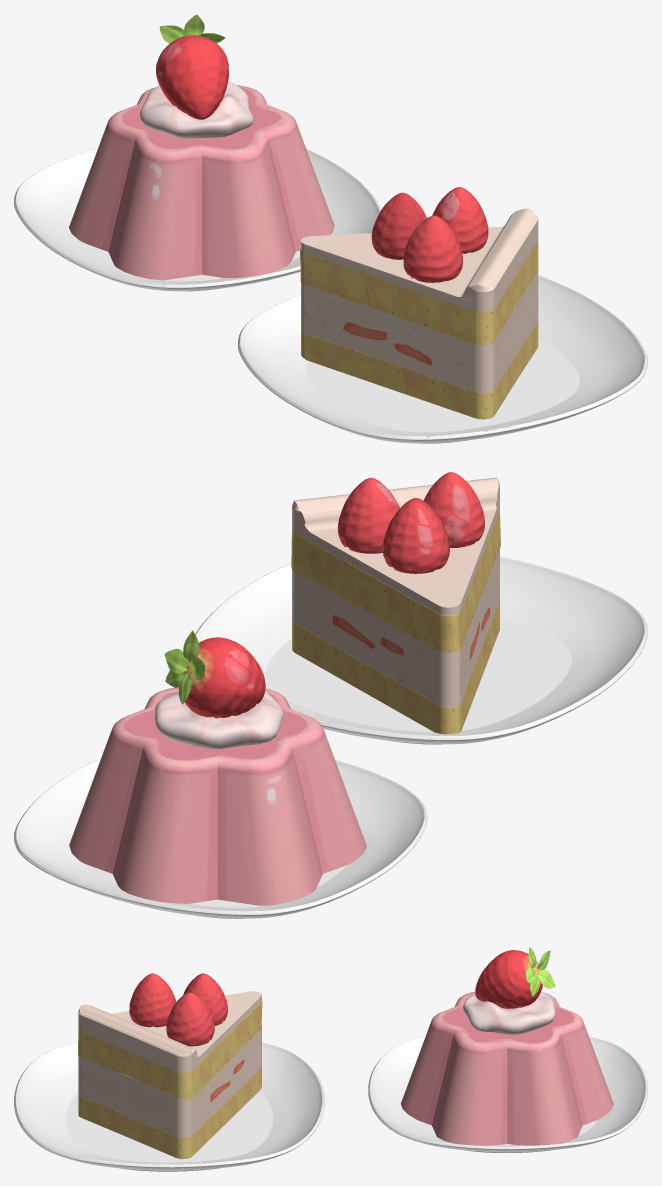
File: desserts-transformed.glb
3 renders of one model, top to bottom at view 1: azimuth 30°, elevation 25°; view 2: azimuth 150°, elevation 25°; view 3: azimuth 270°, elevation 25°, orthographic. The views are drawn at different scales.
Parts seen in each view (by area): view 1: Object_12, Object_32, Object_6, Object_9, Object_4, Object_30, Object_38, Object_17, Object_23, Object_19, Object_28; view 2: Object_12, Object_32, Object_6, Object_9, Object_4, Object_30, Object_38, Object_23, Object_19, Object_17, Object_28; view 3: Object_12, Object_32, Object_6, Object_9, Object_4, Object_30, Object_38, Object_19, Object_17, Object_23, Object_28.
Boxes of the visible parts, x1=… form: Object_12: x1=14, y1=149, x2=647, y2=443; Object_32: x1=69, y1=85, x2=334, y2=280; Object_6: x1=300, y1=239, x2=538, y2=419; Object_9: x1=301, y1=271, x2=538, y2=393; Object_4: x1=301, y1=208, x2=538, y2=312; Object_30: x1=156, y1=35, x2=228, y2=119; Object_38: x1=140, y1=81, x2=253, y2=138; Object_17: x1=403, y1=215, x2=462, y2=282; Object_23: x1=371, y1=192, x2=426, y2=259; Object_19: x1=432, y1=187, x2=488, y2=253; Object_28: x1=159, y1=14, x2=225, y2=43; Object_12: x1=14, y1=556, x2=647, y2=918; Object_32: x1=69, y1=687, x2=366, y2=905; Object_6: x1=291, y1=510, x2=500, y2=734; Object_9: x1=292, y1=549, x2=499, y2=707; Object_4: x1=292, y1=477, x2=499, y2=615; Object_30: x1=178, y1=637, x2=265, y2=718; Object_38: x1=155, y1=691, x2=283, y2=749; Object_23: x1=382, y1=498, x2=449, y2=573; Object_19: x1=337, y1=477, x2=399, y2=553; Object_17: x1=423, y1=472, x2=484, y2=547; Object_28: x1=164, y1=630, x2=205, y2=704; Object_12: x1=14, y1=1036, x2=647, y2=1171; Object_32: x1=401, y1=992, x2=613, y2=1147; Object_6: x1=78, y1=1001, x2=262, y2=1159; Object_9: x1=78, y1=1028, x2=261, y2=1137; Object_4: x1=78, y1=991, x2=261, y2=1072; Object_30: x1=475, y1=950, x2=542, y2=1008; Object_38: x1=463, y1=992, x2=555, y2=1034; Object_19: x1=166, y1=992, x2=214, y2=1046; Object_17: x1=129, y1=973, x2=176, y2=1027; Object_23: x1=183, y1=973, x2=227, y2=1025; Object_28: x1=526, y1=947, x2=555, y2=996.
Bounding box in the file's own units: 2.02 × 1.17 × 3.91.
11 materials, 10 textured.
